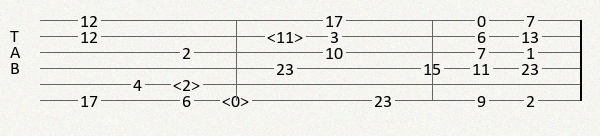0: (477, 13, 490, 28)
1: (526, 45, 539, 60)
10: (325, 45, 347, 60)
11: (472, 61, 494, 76)
12: (80, 29, 102, 44), (80, 13, 102, 28)
13: (521, 29, 543, 44)
15: (423, 61, 445, 76)
17: (80, 93, 102, 108), (325, 13, 347, 28)
2: (182, 45, 195, 60), (526, 93, 539, 108)
23: (276, 61, 298, 76), (374, 93, 396, 108), (521, 61, 543, 76)
3: (330, 29, 343, 44)
4: (133, 77, 146, 92)
6: (182, 93, 195, 108), (477, 29, 490, 44)
7: (477, 45, 490, 60), (526, 13, 539, 28)
9: (477, 93, 490, 108)
harmonic: (267, 29, 307, 44), (173, 77, 204, 92), (222, 93, 253, 108)
